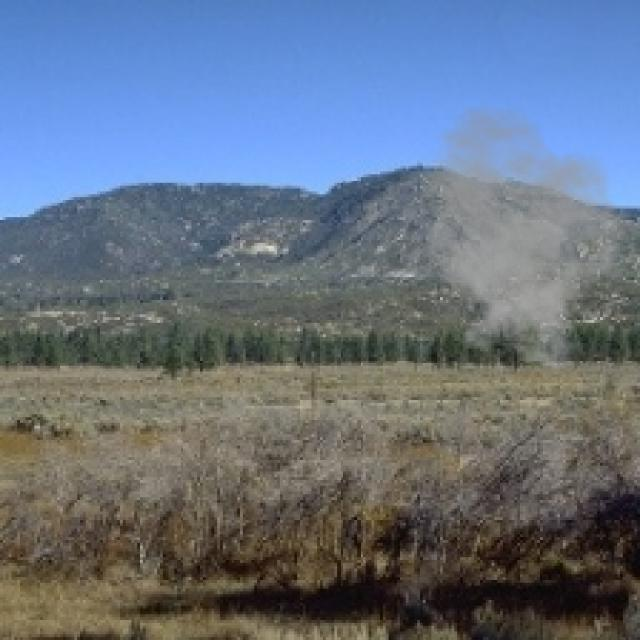smoke: (400, 103, 634, 371)
